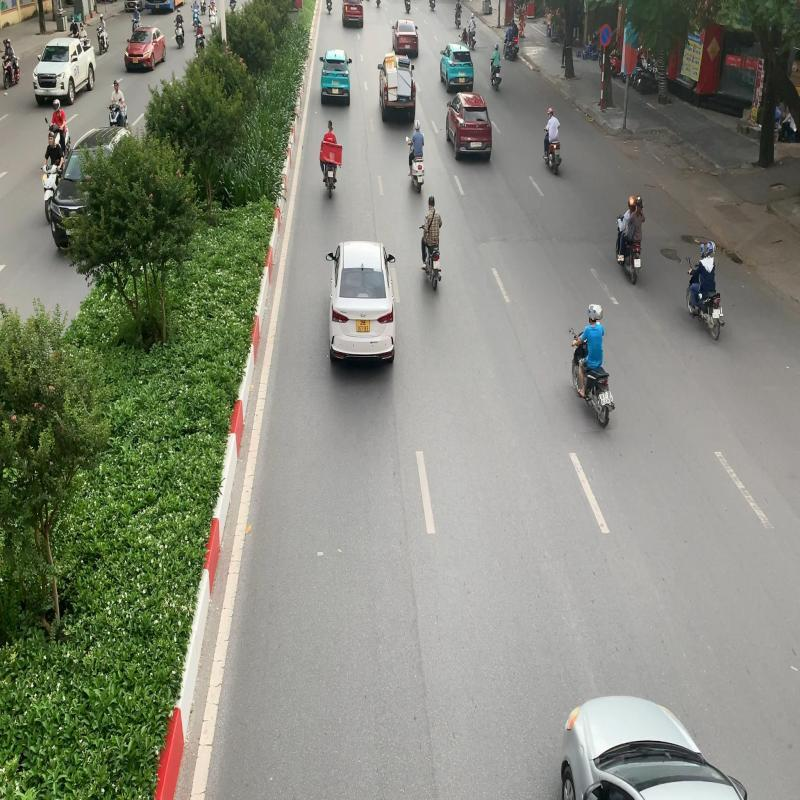helmet: (590, 304, 604, 320), (704, 242, 716, 254)
licenseplate: (599, 391, 611, 406), (712, 307, 722, 319)
motorcyclist: (568, 303, 616, 431), (679, 243, 730, 346)
nohelmet: (326, 118, 334, 131)
